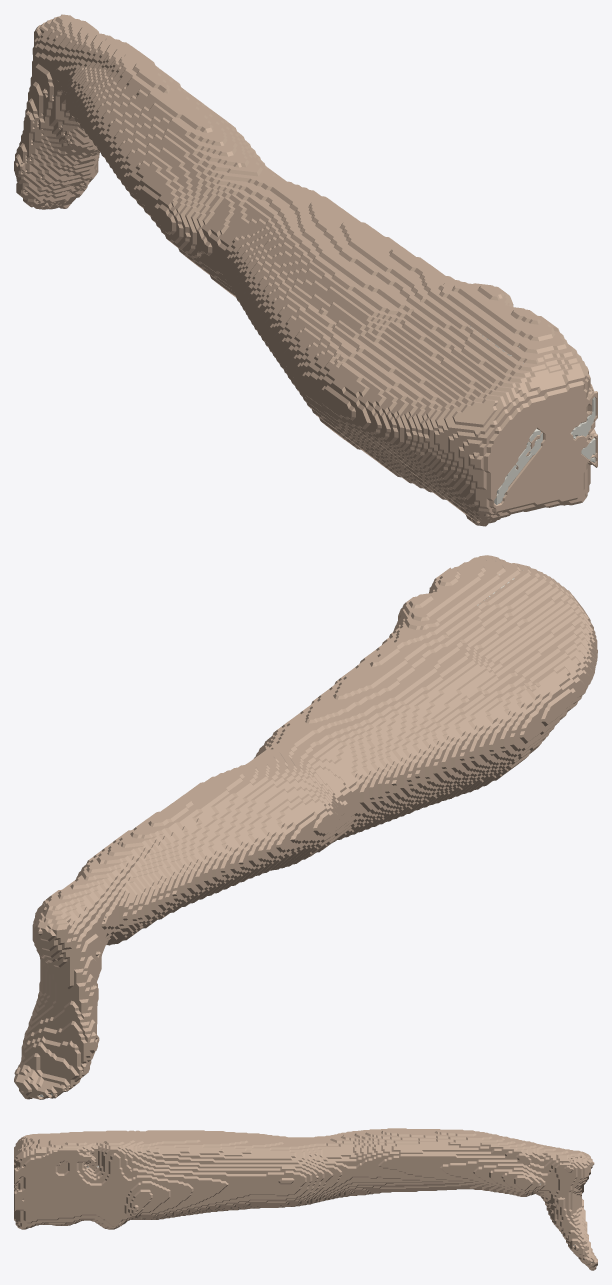
The model's file is lowerextremity.glb.
The picture shows the model from 3 angles, top to bottom: view 1: azimuth 30°, elevation 25°; view 2: azimuth 150°, elevation 25°; view 3: azimuth 270°, elevation 25°; orthographic projection. The views are drawn at different scales.
Visible parts, largest first — view 1: world; view 2: world; view 3: world.
Boxes of the visible parts, x1=… form: world: x1=14, y1=14, x2=597, y2=526; world: x1=14, y1=555, x2=597, y2=1099; world: x1=14, y1=1128, x2=597, y2=1270.
Bounding box in the file's own units: 198 × 240 × 990.
